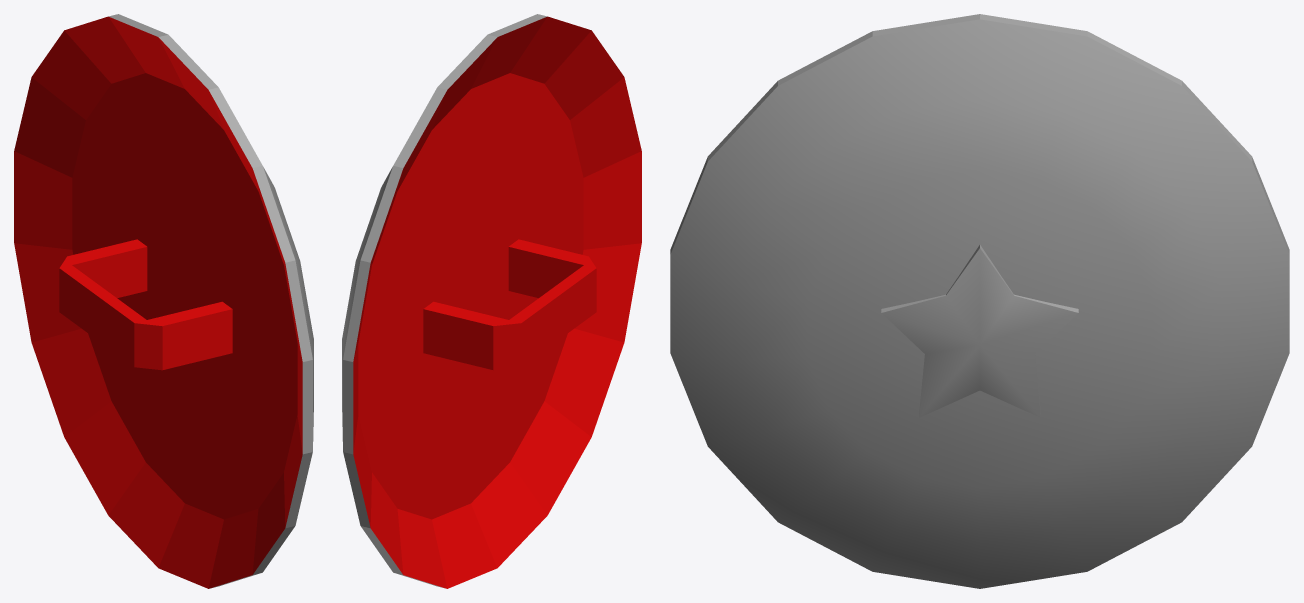
Rendered from shield.fbx.
3 renders of one model, left to right at view 1: azimuth 30°, elevation 25°; view 2: azimuth 150°, elevation 25°; view 3: azimuth 270°, elevation 25°, orthographic. The views are drawn at different scales.
Visible parts, largest first — view 1: Shield__1___1_:shield_0; view 2: Shield__1___1_:shield_0; view 3: Shield__1___1_:shield_0.
Part boxes in pixels (x1,y1,x2,y2): Shield__1___1_:shield_0: (14,14,313,588); Shield__1___1_:shield_0: (342,14,641,588); Shield__1___1_:shield_0: (670,14,1289,588).
Bounding box in the file's own units: 0.1177 × 0.4 × 0.3939.
